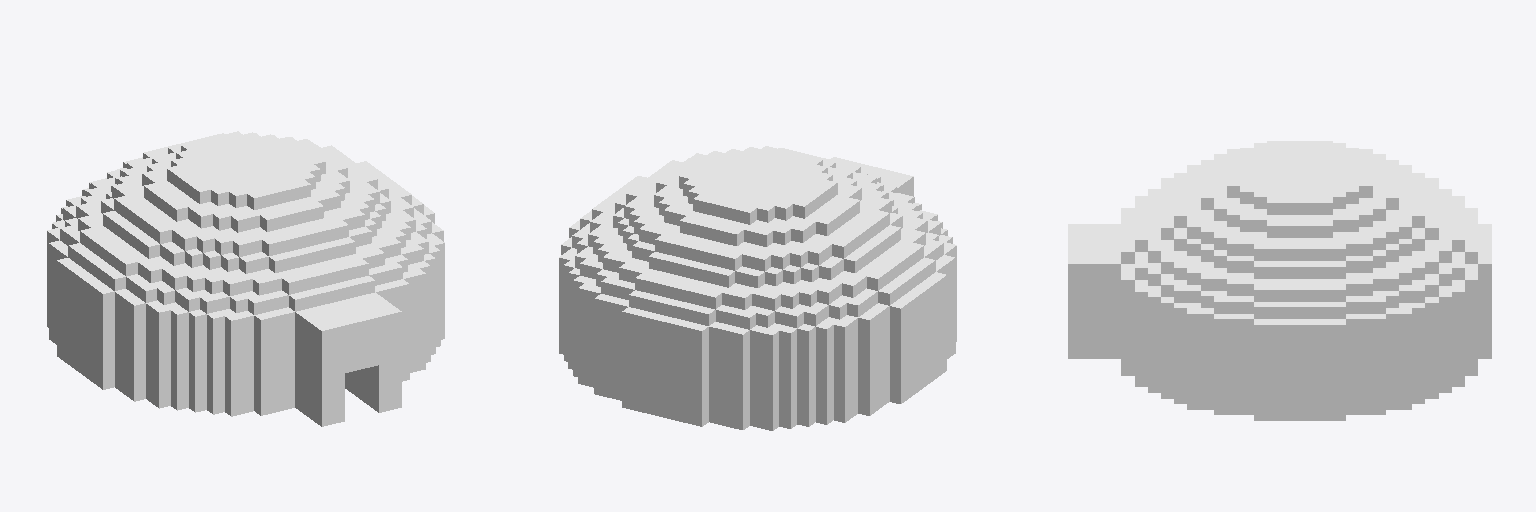
The model's file is igloo.obj.
The picture shows the model from 3 angles: view 1: azimuth 30°, elevation 25°; view 2: azimuth 150°, elevation 25°; view 3: azimuth 270°, elevation 25°; orthographic projection.
Parts seen in each view (by area): view 1: object 1; view 2: object 1; view 3: object 1.
Boxes of the visible parts, x1,y1,x2,y2 form: object 1: [47, 131, 444, 426]; object 1: [559, 146, 956, 430]; object 1: [1068, 141, 1491, 420].
Size of the model in its own units: 2.9 by 1.4 by 3.2.